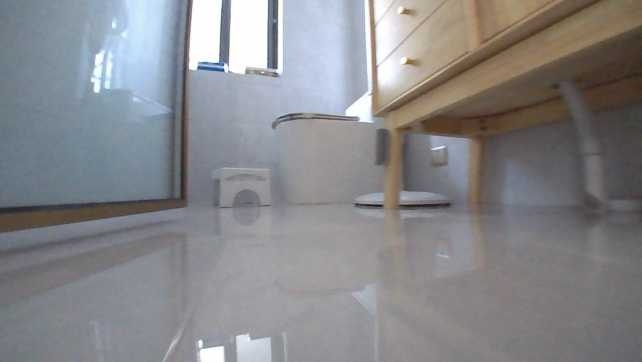plastic_stool: (209, 164, 271, 210)
toilet: (273, 88, 390, 209)
